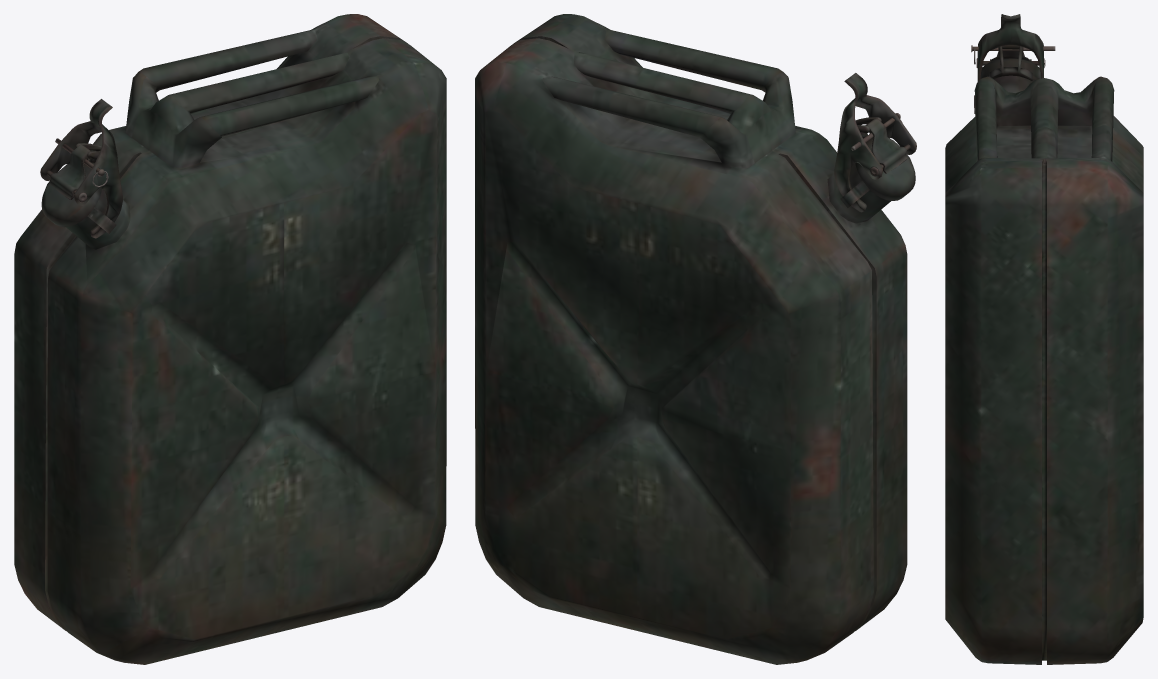
The model's file is metal_jerrycan_green.glb.
3 views of the same model, side by side, from view 1: azimuth 30°, elevation 25°; view 2: azimuth 150°, elevation 25°; view 3: azimuth 270°, elevation 25° (orthographic). The views are drawn at different scales.
Visible parts, largest first — view 1: metal_jerrycan_green_body, metal_jerrycan_green_latch, metal_jerrycan_green_cap; view 2: metal_jerrycan_green_body, metal_jerrycan_green_latch, metal_jerrycan_green_cap; view 3: metal_jerrycan_green_body, metal_jerrycan_green_latch, metal_jerrycan_green_cap, metal_jerrycan_green_fastener.
Part boxes in pixels (x1,y1,x2,y2): metal_jerrycan_green_body: (14,14,446,664); metal_jerrycan_green_latch: (40,99,122,238); metal_jerrycan_green_cap: (41,144,101,227); metal_jerrycan_green_body: (475,14,907,664); metal_jerrycan_green_latch: (834,73,916,212); metal_jerrycan_green_cap: (855,118,915,200); metal_jerrycan_green_body: (945,75,1143,664); metal_jerrycan_green_latch: (976,14,1045,81); metal_jerrycan_green_cap: (980,45,1040,79); metal_jerrycan_green_fastener: (989,46,1032,80).
Size of the model in its own units: 0.3604 by 0.4998 by 0.1709.
Materials: 1 (1 with a texture image).
